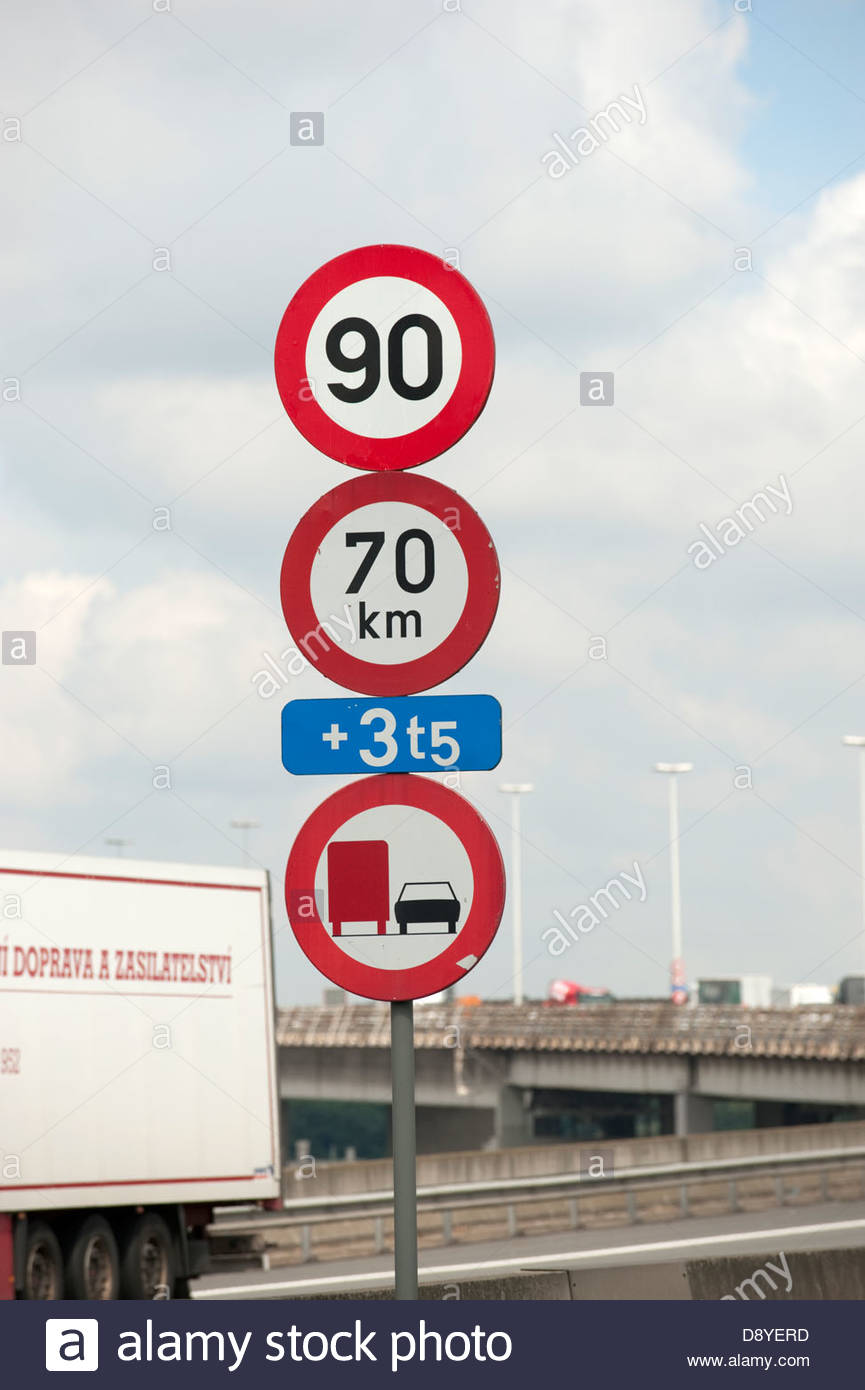Speed_limit_90km: (270, 243, 494, 471)
